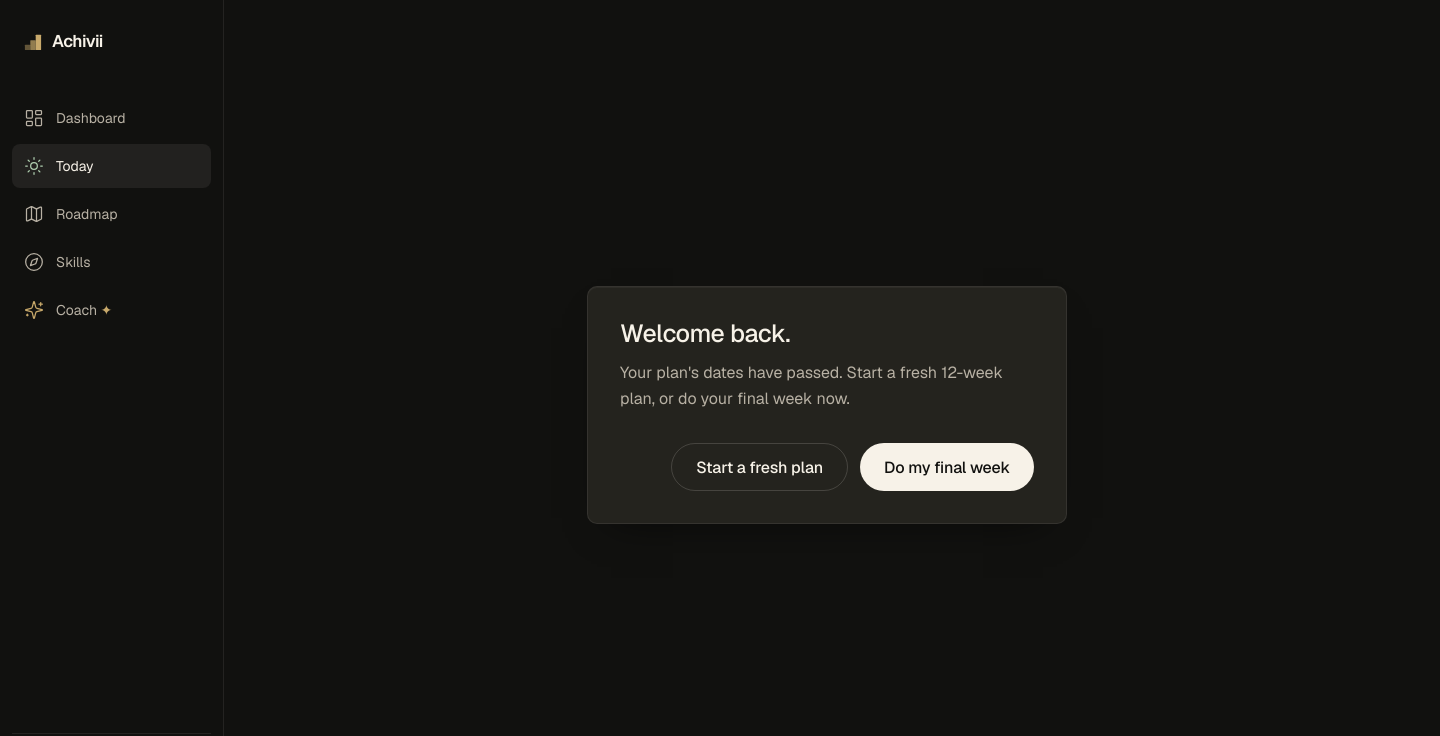
Test case: the choice card past the limit (WU-38, WU-40) › "Do my final week" sends the final week
Click the button "Do my final week" at (947, 468), box [860,444,1034,492]
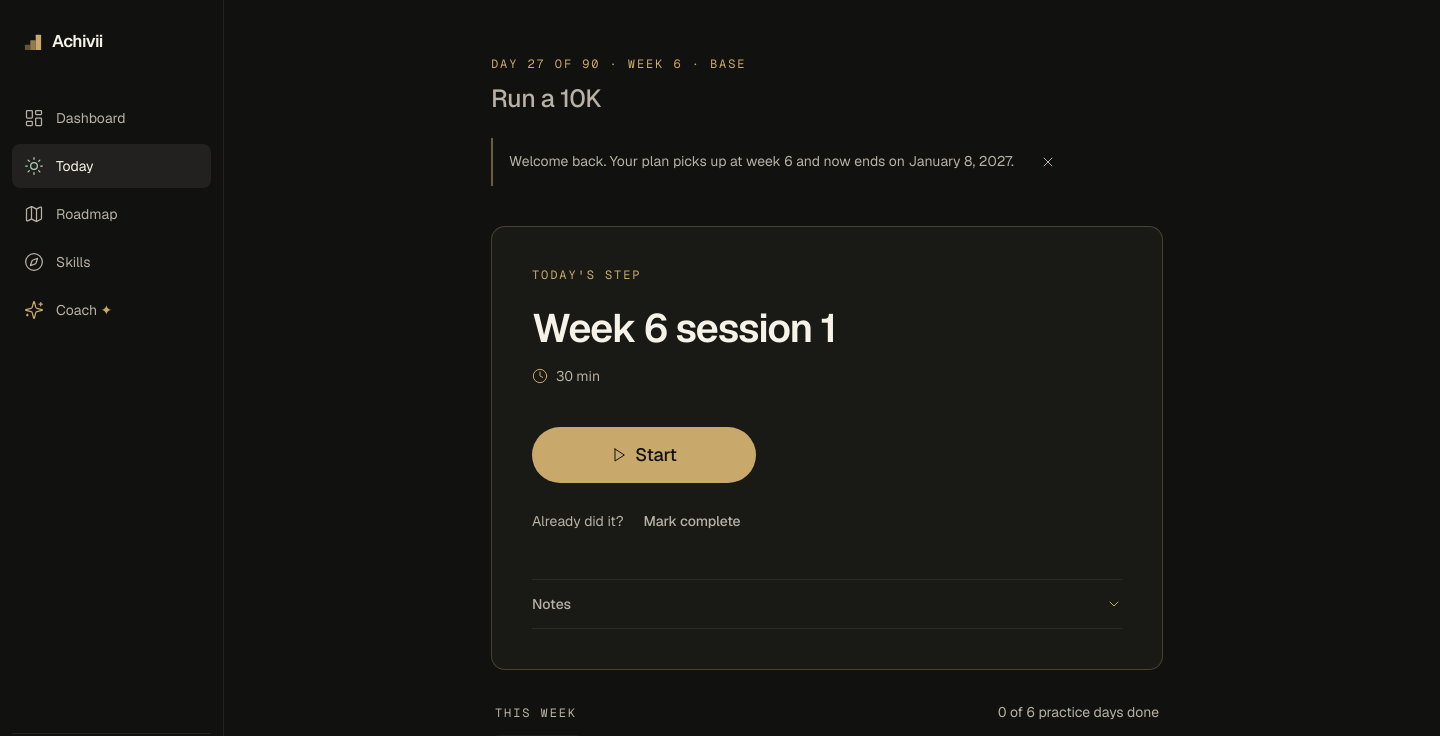
Expected: the heading "Run a 10K" is shown, [491,82,601,114]
